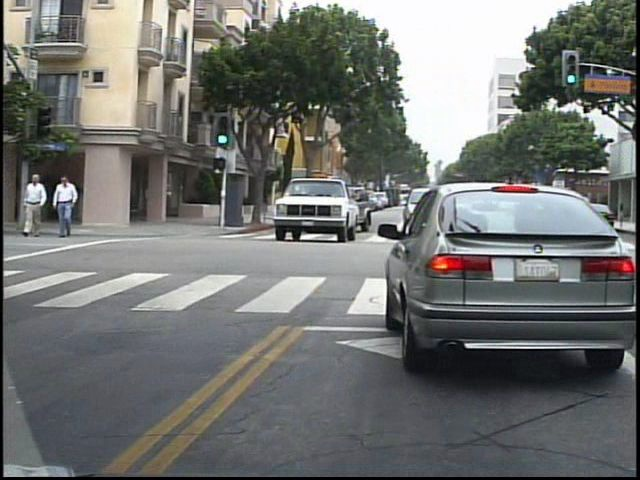person: (27, 170, 58, 242), (56, 173, 85, 240)
